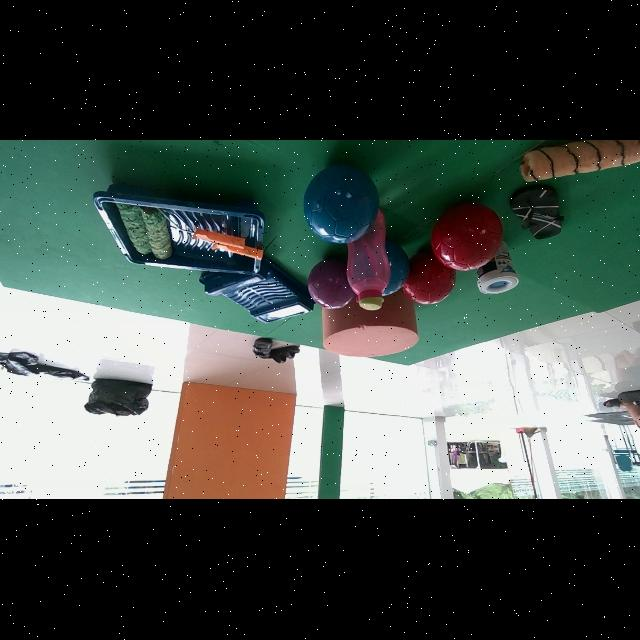B: (304, 164, 379, 245), (383, 242, 410, 296)
P: (308, 259, 355, 309)
R: (431, 204, 503, 271), (403, 251, 457, 305)
